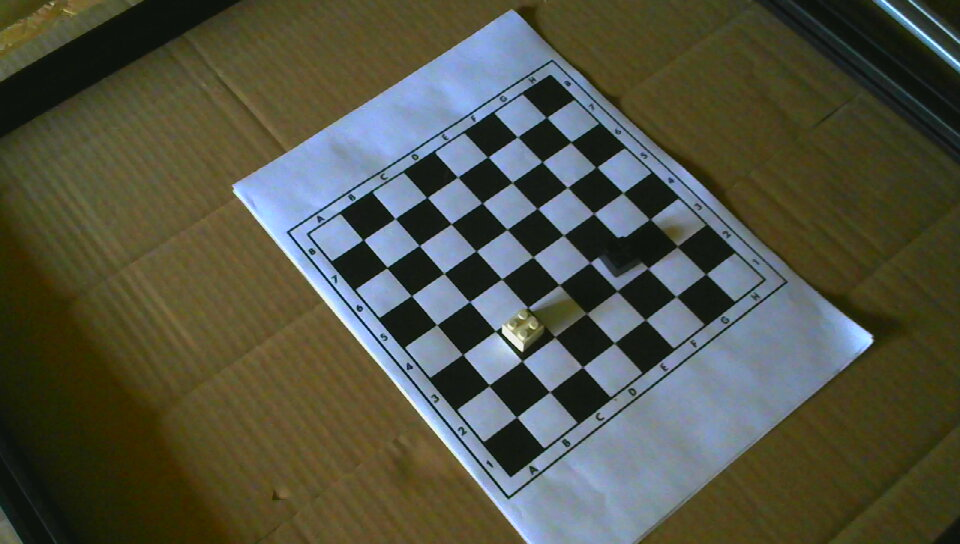bp: (600, 236, 641, 279)
wp: (503, 309, 545, 352)
